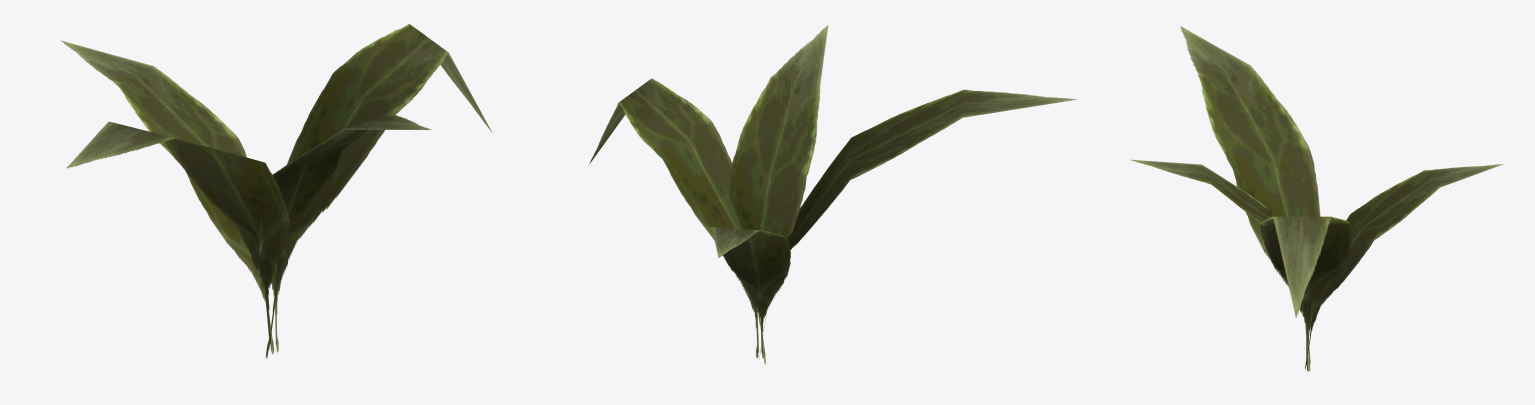
The model's file is bush50.glb.
3 renders of one model, left to right at view 1: azimuth 30°, elevation 25°; view 2: azimuth 150°, elevation 25°; view 3: azimuth 270°, elevation 25°, orthographic. The views are drawn at different scales.
Visible parts, largest first — view 1: bush50; view 2: bush50; view 3: bush50.
Part boxes in pixels (left/top/right/bottom): bush50: left=61, top=24, right=492, bottom=358; bush50: left=589, top=25, right=1076, bottom=364; bush50: left=1130, top=26, right=1503, bottom=371.
Bounding box in the file's own units: 3.43 × 2 × 2.97.
Materials: 1 (1 with a texture image).
